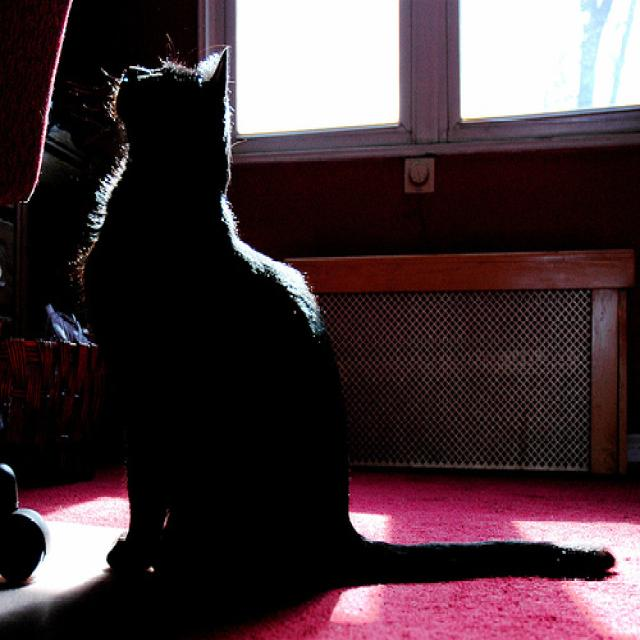cat: (73, 48, 617, 617)
